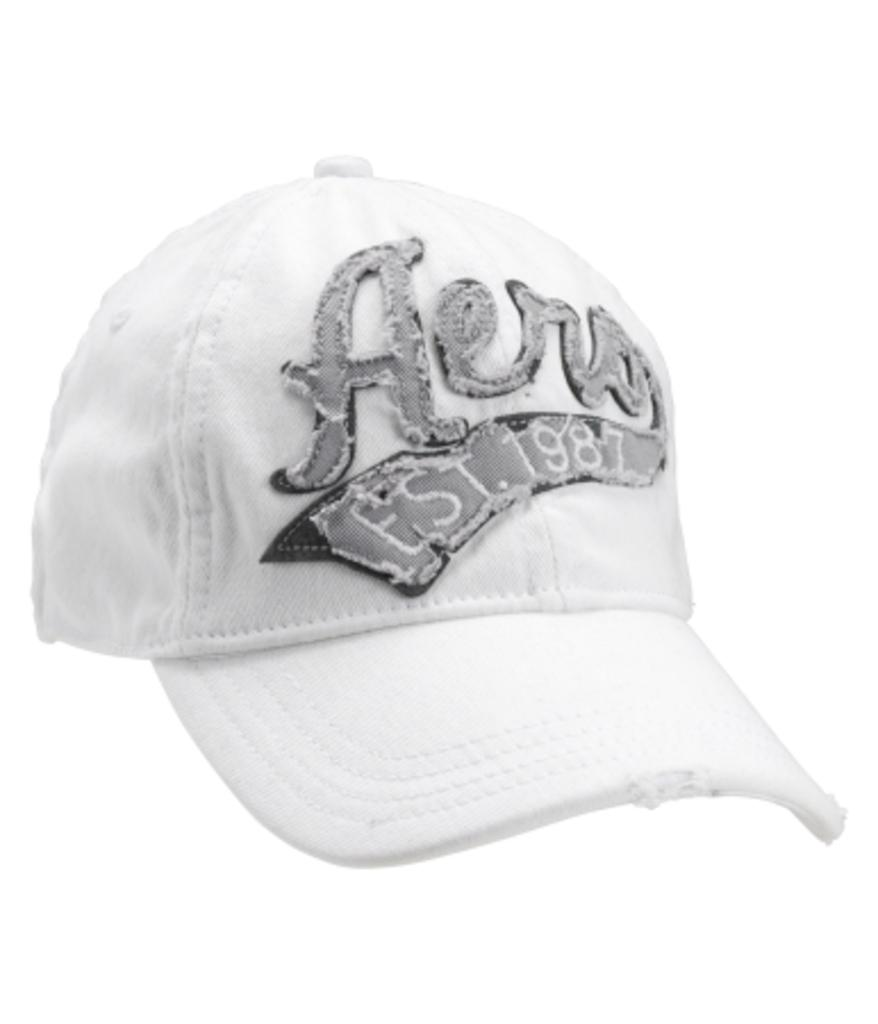Hat: (27, 148, 848, 836)
